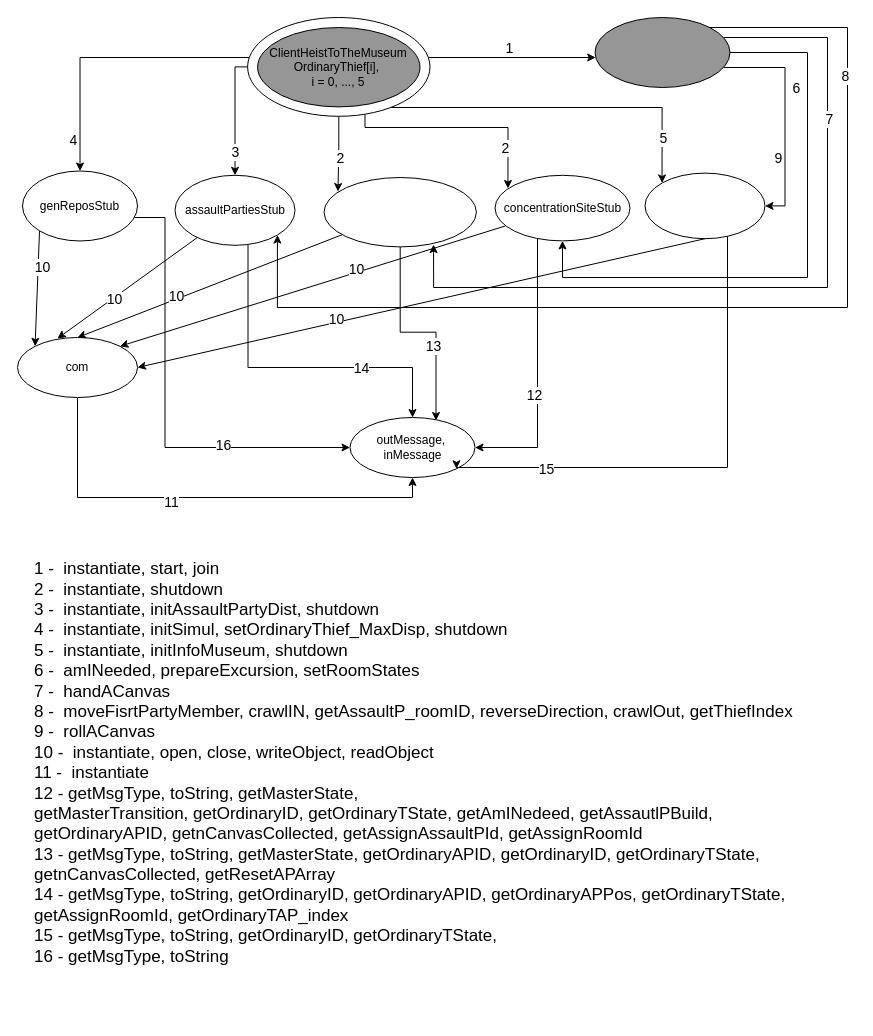
This 873x1036 diagram has some shape labels left out. The shapes that lost their labels are listed below. From the top down, each one's centre as x and y in pixels, then its label:
At [662,52]: "ordinaryThief[i], i = 0, ..., 5".
At [399,211]: "controlCollectionSiteStub".
At [704,205]: "museumStub".
